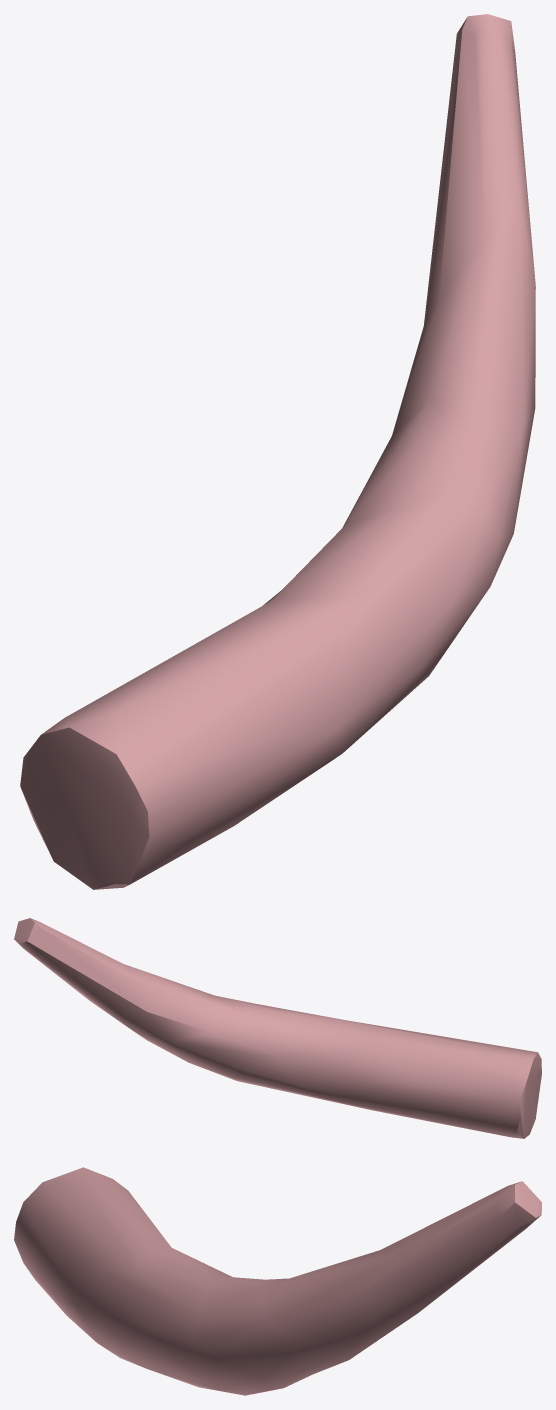
Rendered from fma68228_fj6523.glb.
3 renders of one model, top to bottom at view 1: azimuth 30°, elevation 25°; view 2: azimuth 150°, elevation 25°; view 3: azimuth 270°, elevation 25°, orthographic. The views are drawn at different scales.
Visible parts, largest first — view 1: FMA68228_FJ6523; view 2: FMA68228_FJ6523; view 3: FMA68228_FJ6523.
Part boxes in pixels (x1,y1,x2,y2): FMA68228_FJ6523: (20, 14, 535, 889); FMA68228_FJ6523: (14, 918, 541, 1138); FMA68228_FJ6523: (14, 1167, 541, 1395).
Size of the model in its own units: 0.0289 by 0.0179 by 0.0241.
